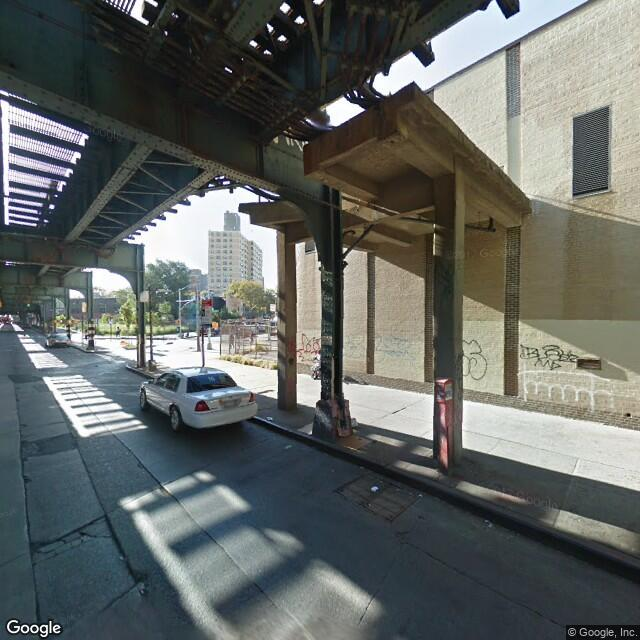litter: (479, 516, 496, 528), (409, 490, 425, 502), (264, 414, 277, 423), (366, 486, 381, 493)
